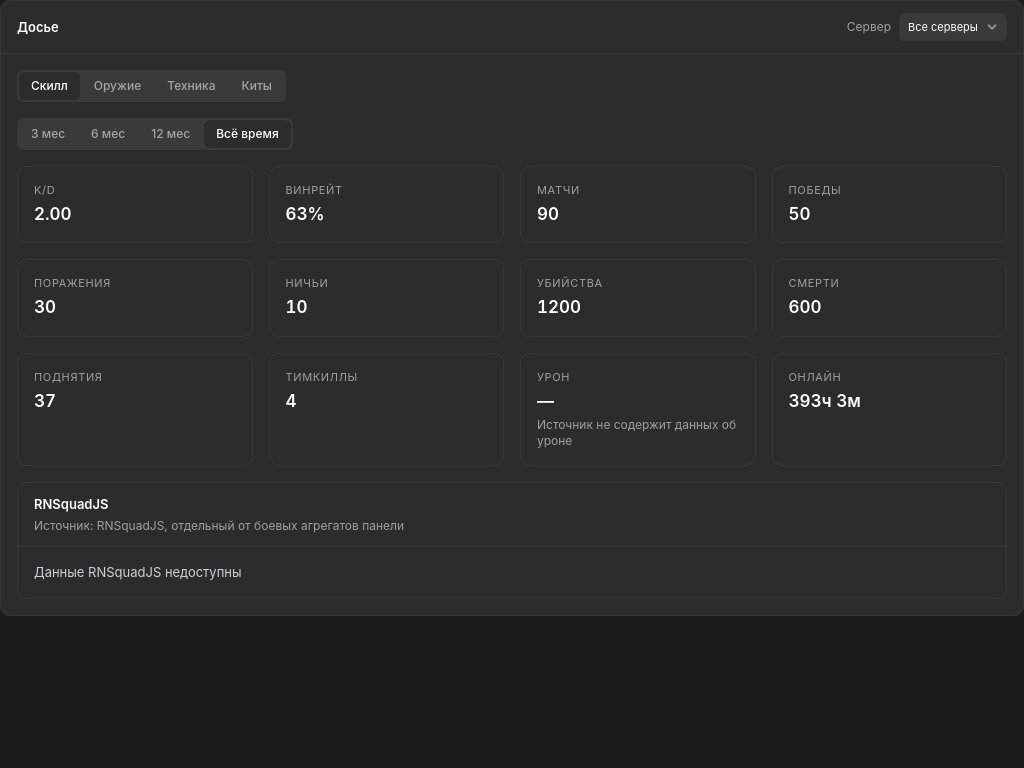
Scenario: DossierSection › weapons tab hides the damage sort control when no weapon has damage
Expected: the text "K/D" is shown, 34,183 -> 55,197
Click the tab "Оружие" at (117, 86), box 82,72 -> 153,100
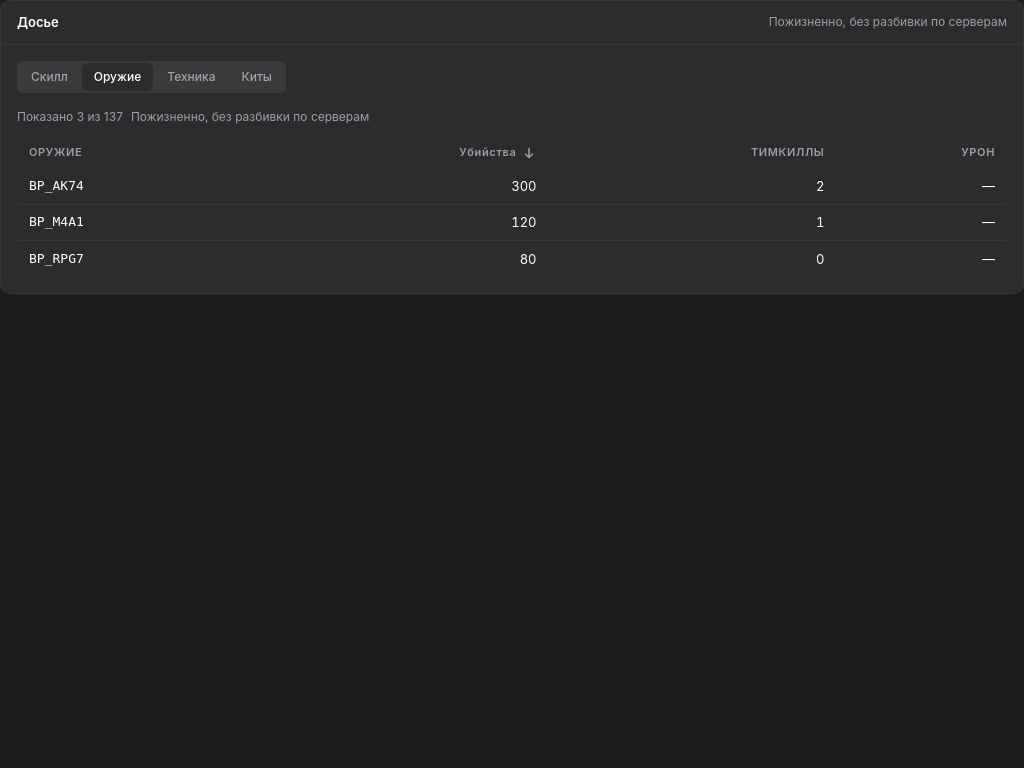
Now the number of elements titled "Источник не содержит данных об уроне" is 3, box 982,178 -> 995,194; 982,214 -> 995,230; 982,251 -> 995,267
Now the text titled "Источник не содержит данных об уроне" in the row of "BP_AK74" reads "—", box 982,178 -> 995,194
Now the text titled "Источник не содержит данных об уроне" in the row of "BP_M4A1" reads "—", box 982,214 -> 995,230
